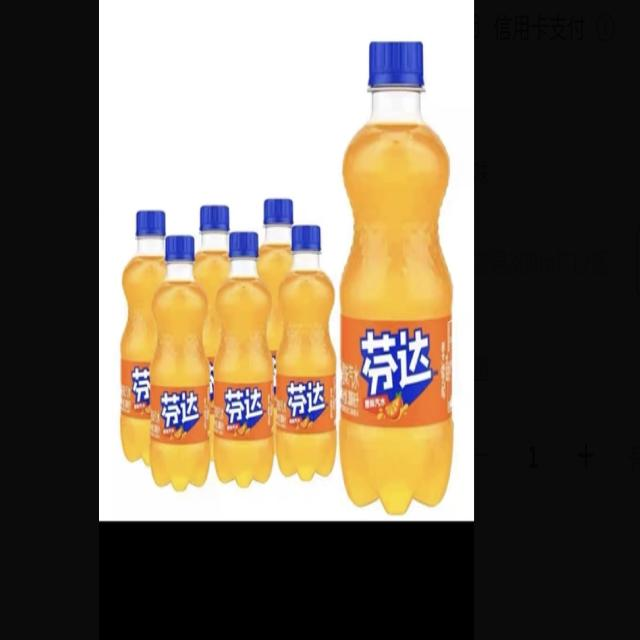orange: (356, 322, 435, 426), (157, 386, 204, 447), (222, 385, 264, 440), (284, 377, 328, 428), (129, 364, 154, 410)
